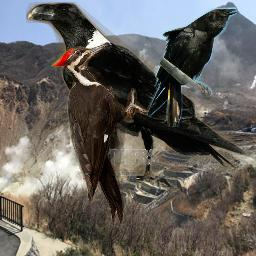Crow: (26, 2, 246, 189), (147, 7, 237, 128)
Woodpecker: (51, 43, 148, 226)
